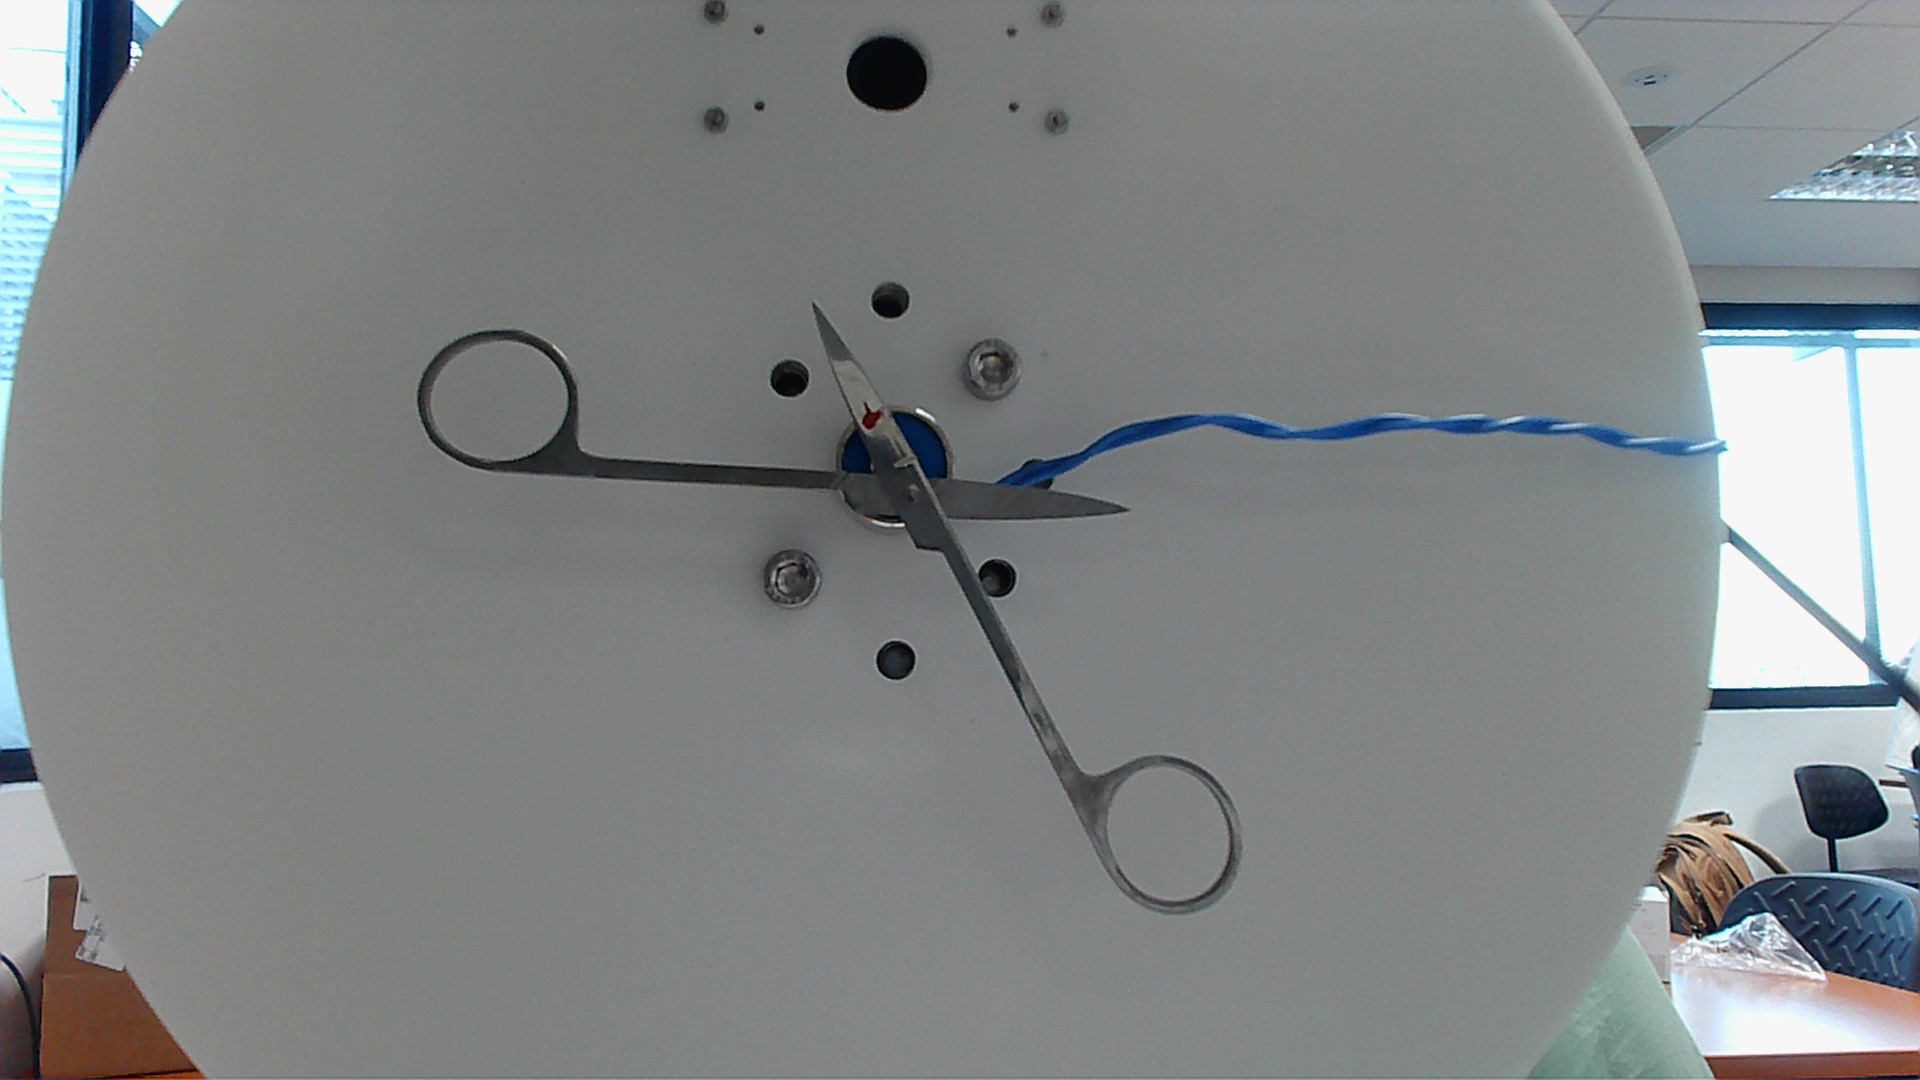Stain: (855, 398, 891, 438)
